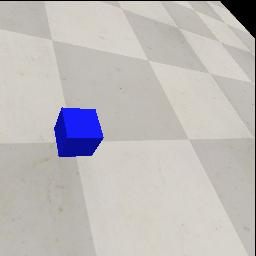box: (54, 107, 104, 157)
